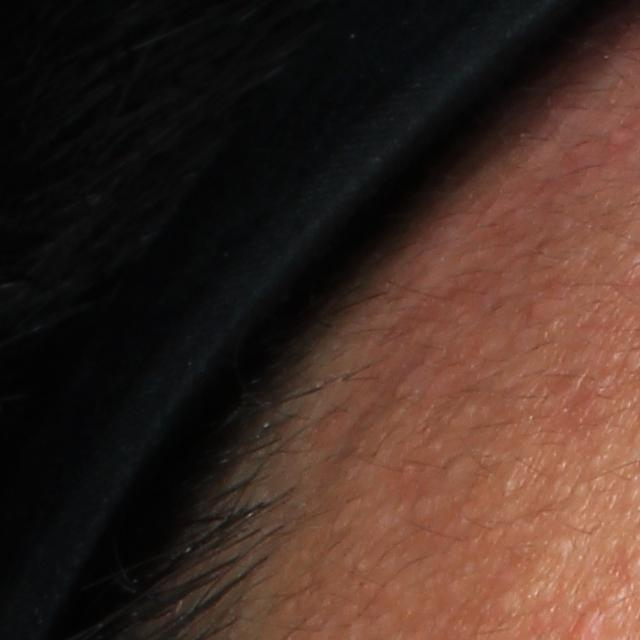comedo: (442, 448, 472, 480), (544, 534, 577, 560), (495, 587, 526, 614)
